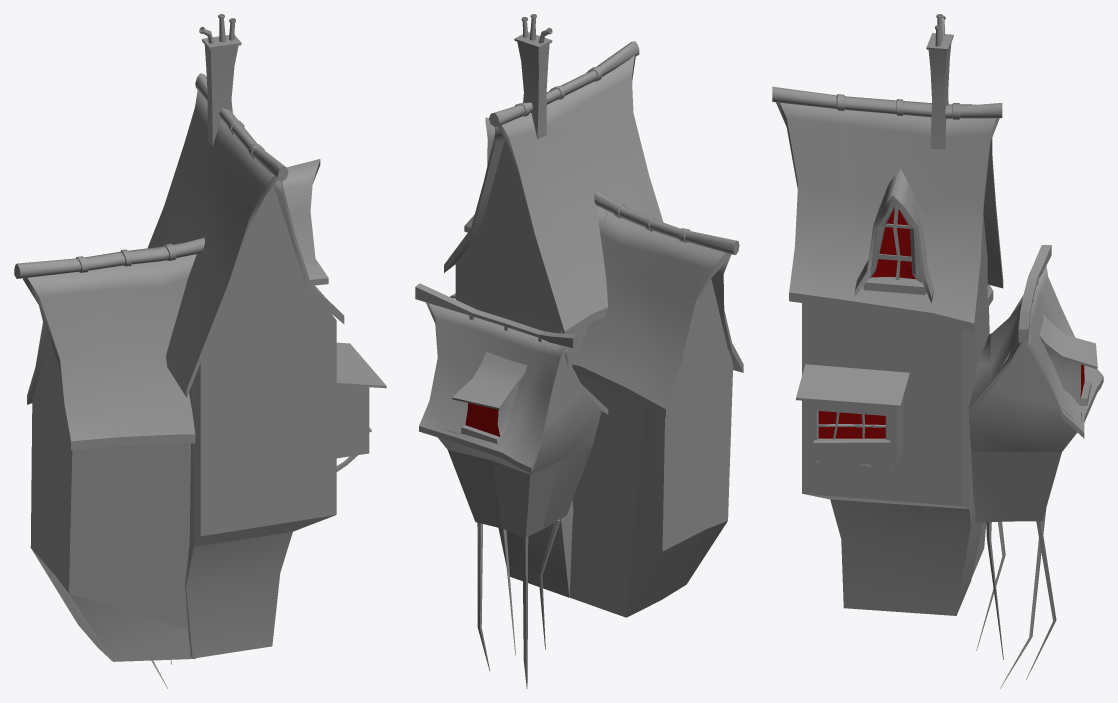
Rendered from HouseBlockout01.FBX.
The picture shows the model from 3 angles, left to right: view 1: azimuth 30°, elevation 25°; view 2: azimuth 150°, elevation 25°; view 3: azimuth 270°, elevation 25°; orthographic projection. The views are drawn at different scales.
Parts seen in each view (by area): view 1: Maison01; view 2: Maison01; view 3: Maison01.
Part boxes in pixels (left/top/right/bottom): Maison01: left=14, top=14, right=386, bottom=688; Maison01: left=415, top=14, right=743, bottom=688; Maison01: left=772, top=14, right=1103, bottom=688.
Bounding box in the file's own units: 1872 × 3869 × 1697.
